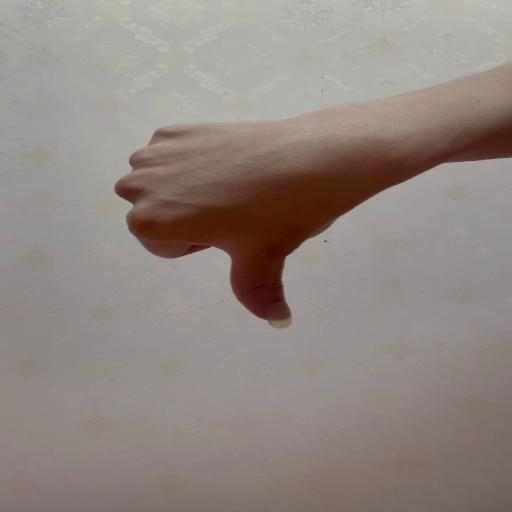thumbs_down: (114, 115, 354, 330)
